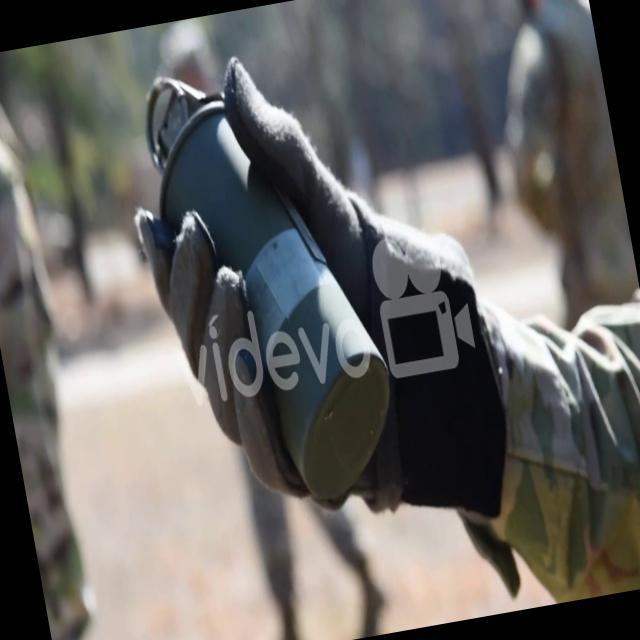grenade: (120, 40, 412, 532)
